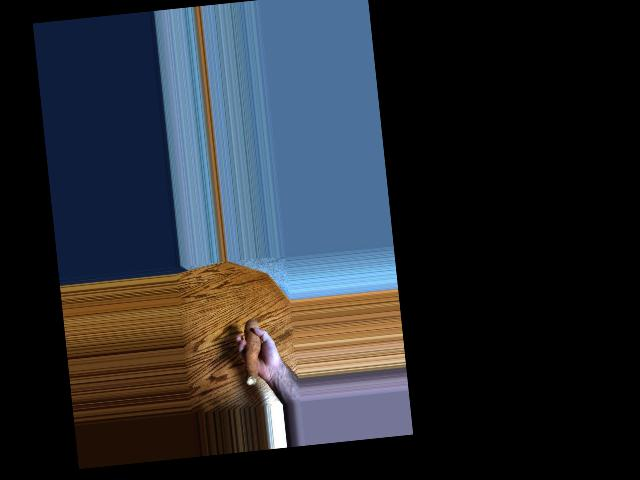sweet_potato: (239, 322, 266, 380)
